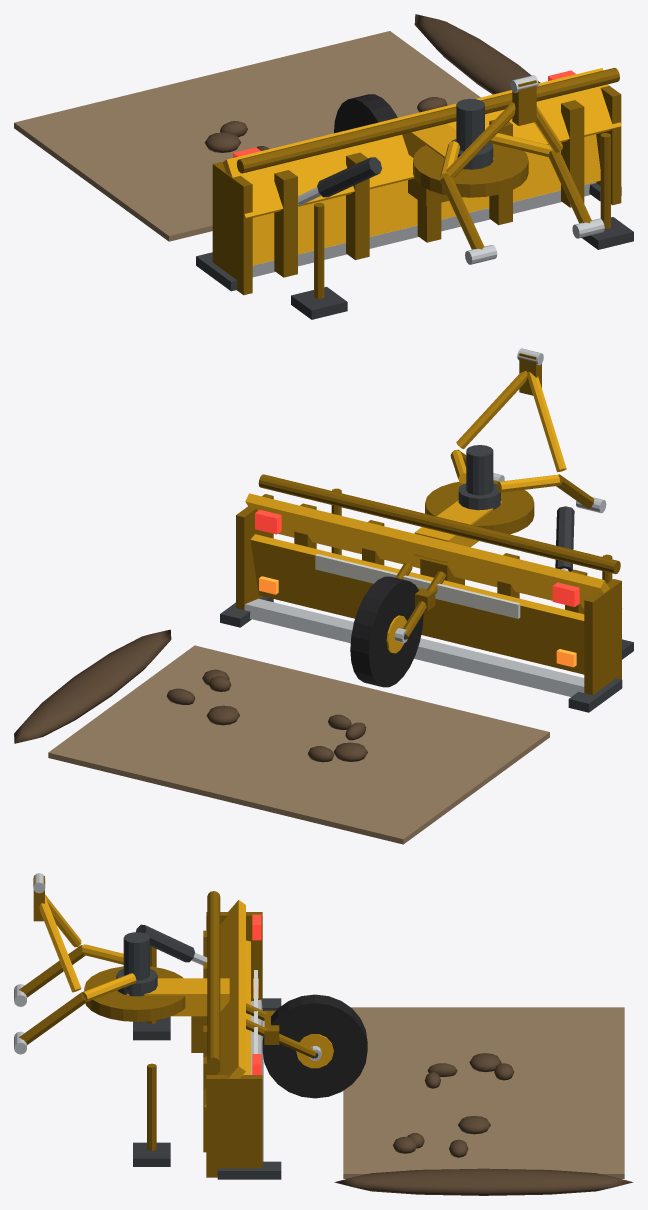
The model's file is rear_blade.glb.
3 renders of one model, top to bottom at view 1: azimuth 30°, elevation 25°; view 2: azimuth 150°, elevation 25°; view 3: azimuth 270°, elevation 25°, orthographic. The views are drawn at different scales.
Visible parts, largest first — view 1: BladeBody, LevelProps, GaugeWheel; view 2: BladeBody, LevelProps, GaugeWheel; view 3: LevelProps, BladeBody, GaugeWheel.
Boxes of the visible parts, bbox=[...] form: BladeBody: bbox=[196, 68, 633, 319]; LevelProps: bbox=[14, 14, 540, 241]; GaugeWheel: bbox=[334, 94, 397, 133]; BladeBody: bbox=[220, 348, 633, 712]; LevelProps: bbox=[14, 629, 549, 844]; GaugeWheel: bbox=[350, 576, 423, 687]; LevelProps: bbox=[334, 1007, 633, 1195]; BladeBody: bbox=[14, 873, 316, 1179]; GaugeWheel: bbox=[262, 994, 367, 1098].
Bounding box in the file's own units: 2.44 × 1.28 × 3.3.
